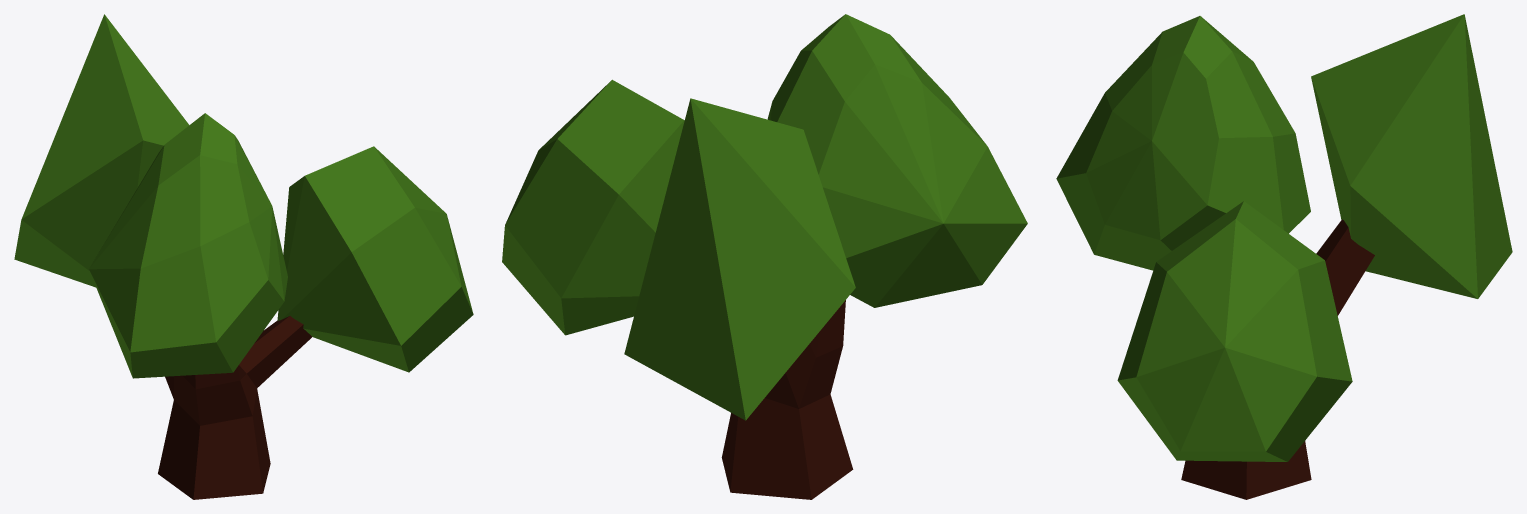
The model's file is SmallTree01.FBX.
The picture shows the model from 3 angles, left to right: view 1: azimuth 30°, elevation 25°; view 2: azimuth 150°, elevation 25°; view 3: azimuth 270°, elevation 25°; orthographic projection. The views are drawn at different scales.
Visible parts, largest first — view 1: Cylinder002; view 2: Cylinder002; view 3: Cylinder002.
Part boxes in pixels (x1,y1,x2,y2): Cylinder002: [14, 14, 473, 499]; Cylinder002: [502, 14, 1027, 499]; Cylinder002: [1056, 14, 1512, 499].
Bounding box in the file's own units: 11.69 × 10.72 × 11.6.
